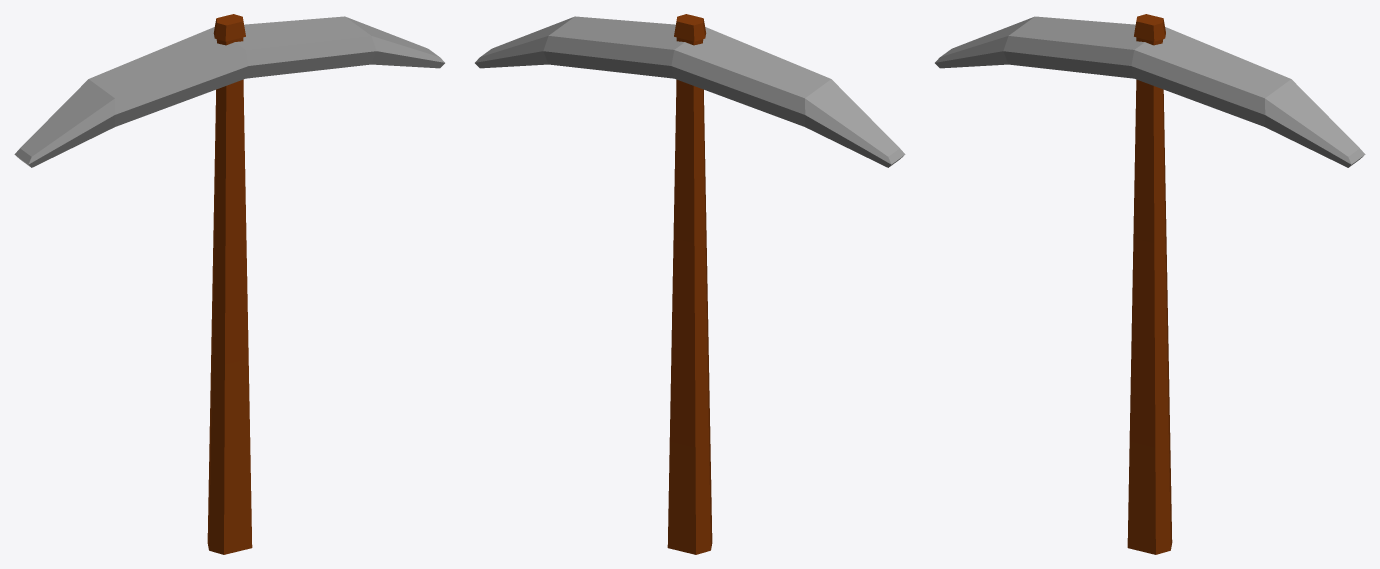
File: Pickaxe.fbx
3 renders of one model, left to right at view 1: azimuth 30°, elevation 25°; view 2: azimuth 150°, elevation 25°; view 3: azimuth 330°, elevation 25°, orthographic.
Parts seen in each view (by area): view 1: Pickaxe; view 2: Pickaxe; view 3: Pickaxe.
Boxes of the visible parts, <box> form: Pickaxe: <box>14,14,444,554</box>; Pickaxe: <box>475,14,905,554</box>; Pickaxe: <box>935,14,1365,554</box>.
Size of the model in its own units: 1.24 by 1.5 by 0.1924.
